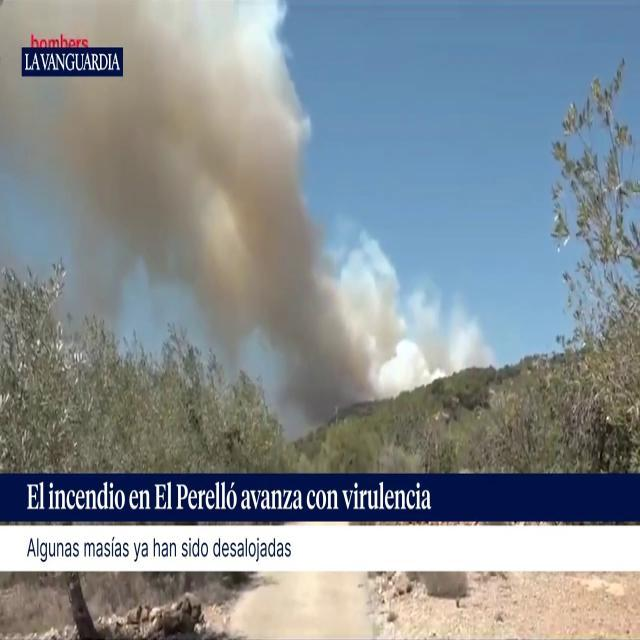Smoke: (0, 0, 468, 439)
